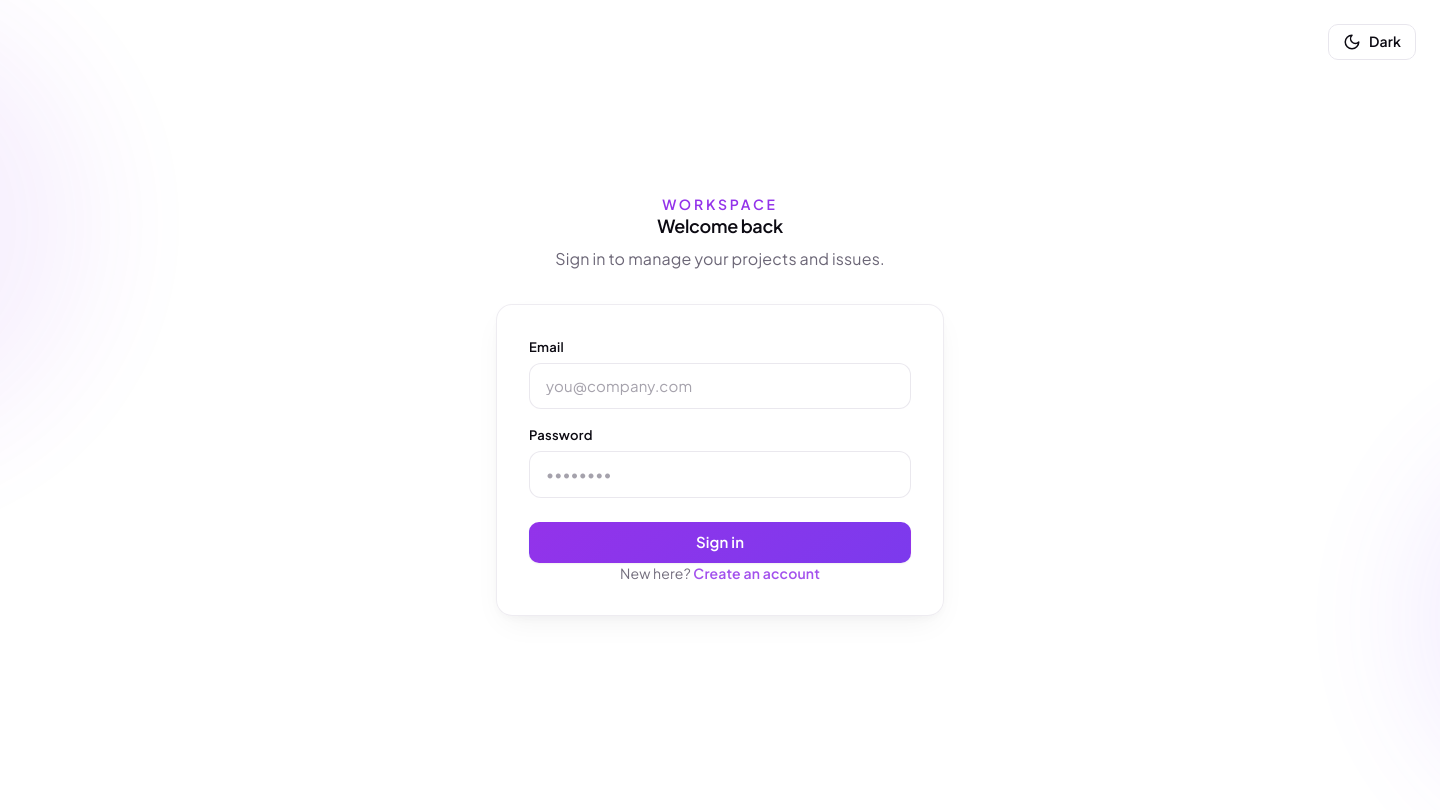
Test: 🧪 TEST FLOW: Login → token → Dashboard projects › logs in, saves token to localStorage, then dashboard loads projects
This screenshot has width=1440, height=810.
Type "user@example.com" into the field with test id "login-email" at (720, 386), box [529,363,911,409]
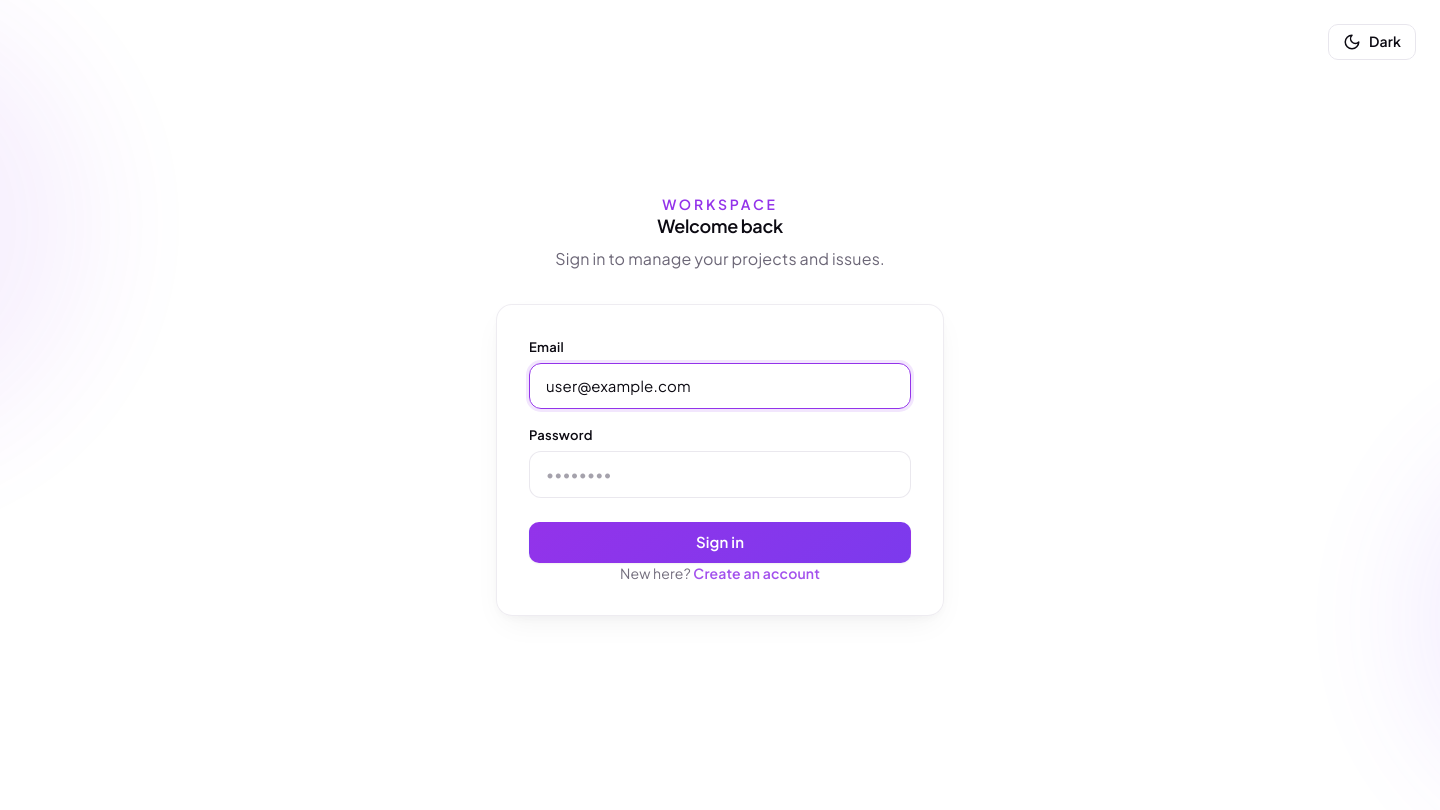
Type "password123" into the password field with test id "login-password" at (720, 475), box [529,451,911,498]
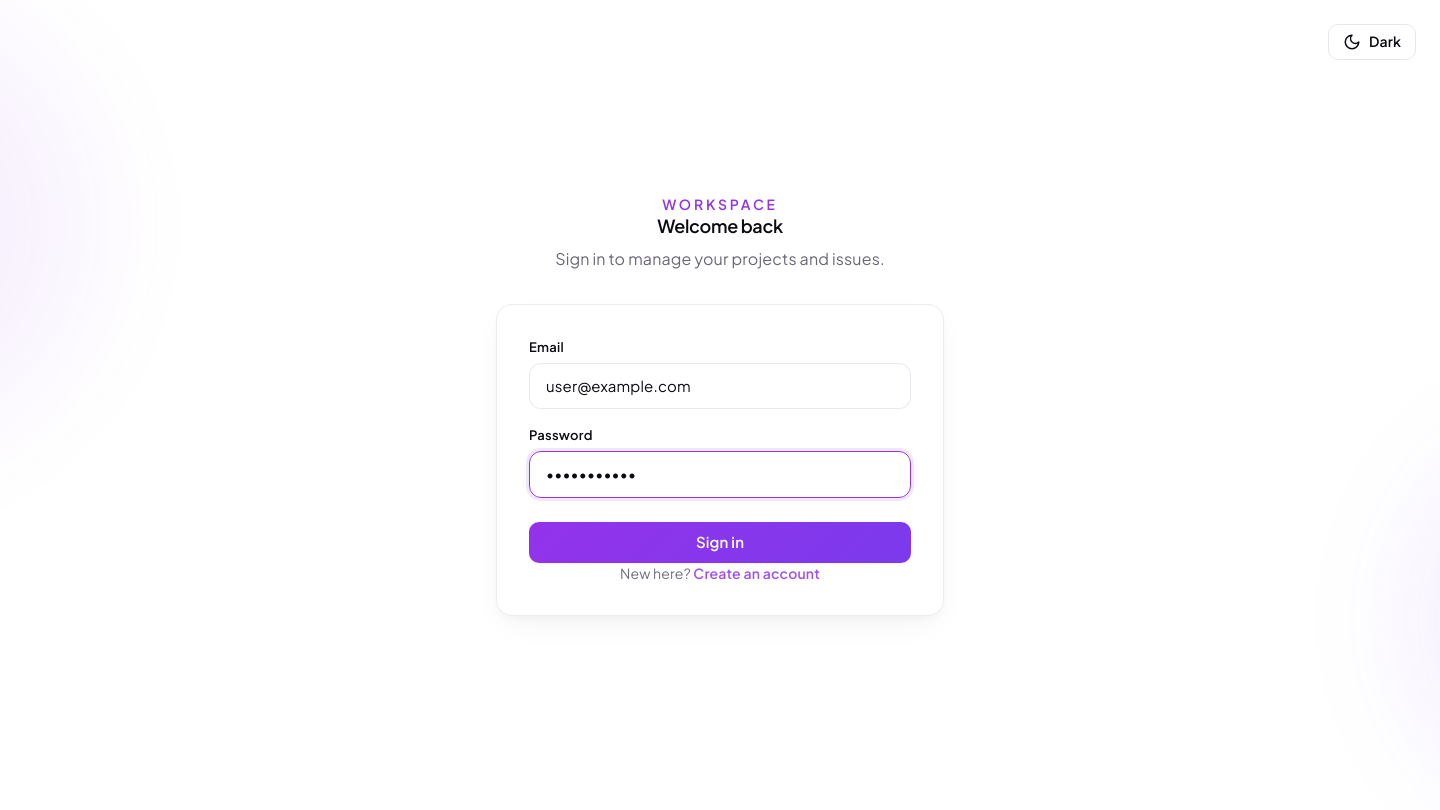
Click the button with test id "login-submit" at (720, 542), box [529,522,911,563]
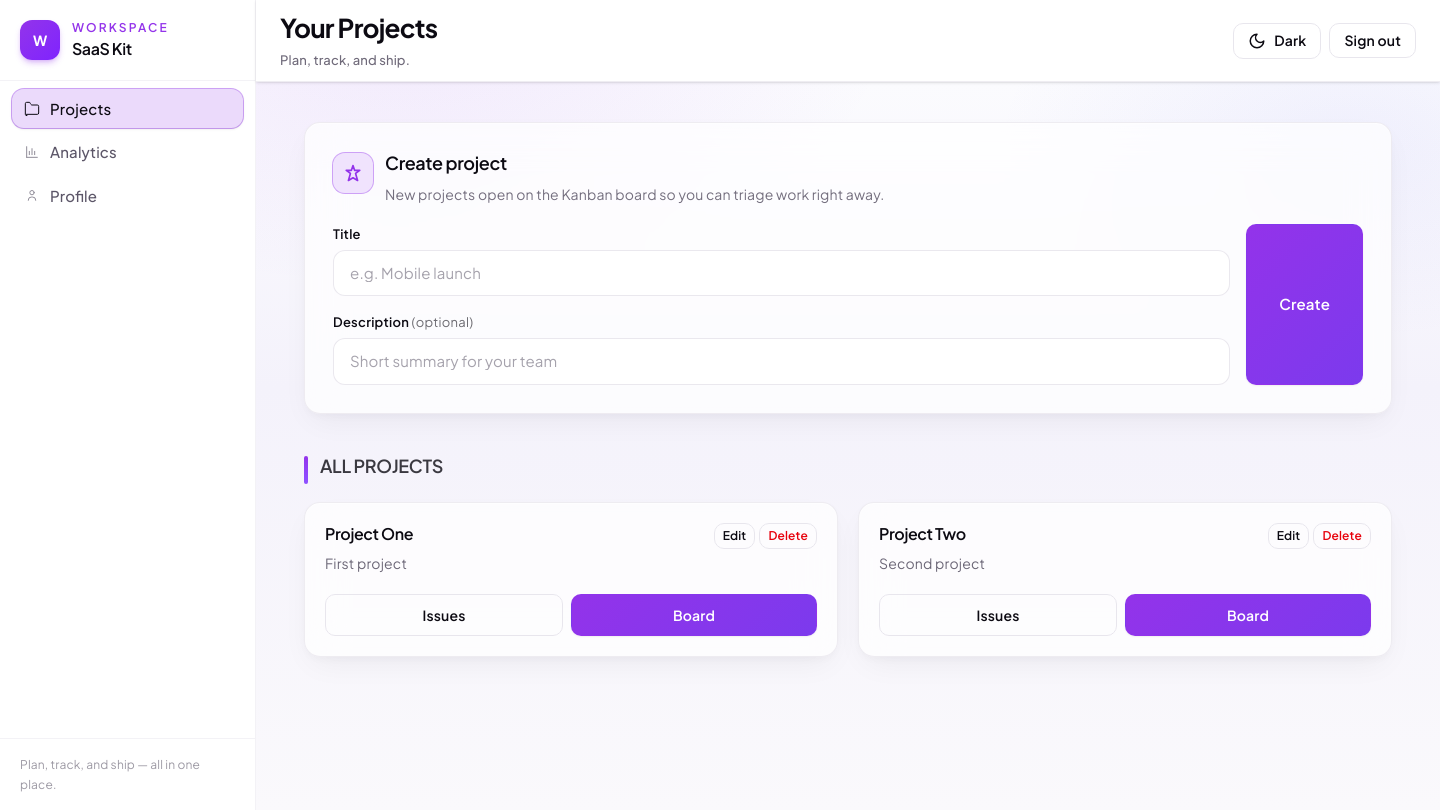
Expected: the heading "Your Projects" is shown, [280,11,437,44]
Expected: the heading "Project One" is shown, [325,523,413,546]
Expected: the heading "Project Two" is shown, [879,523,966,546]
